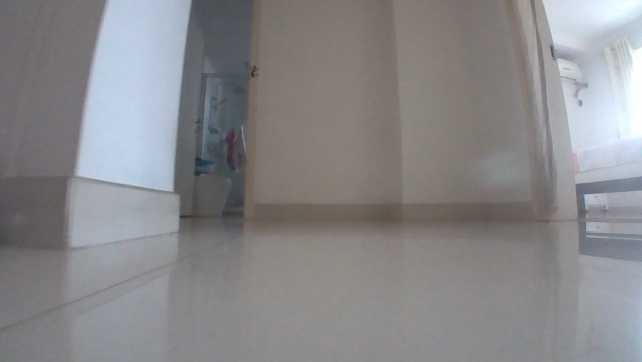bed1: (571, 137, 641, 211)
toilet: (193, 171, 233, 219)
